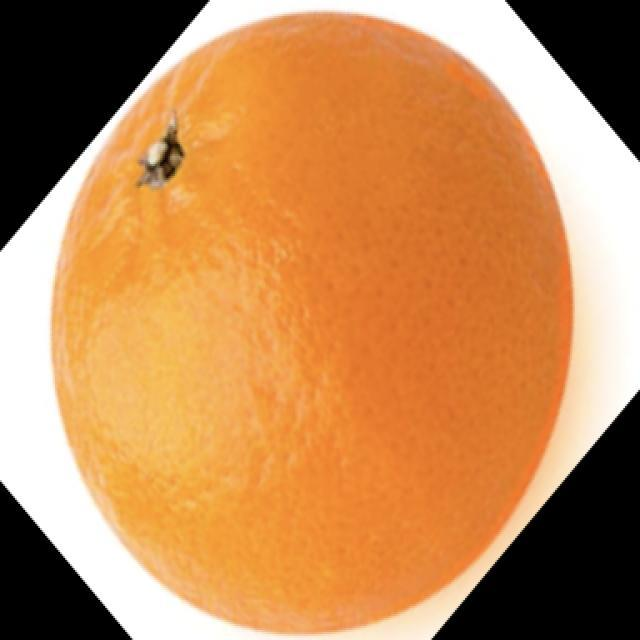Orange: (49, 9, 575, 636)
